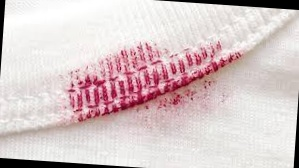lipstick: (62, 32, 244, 138)
